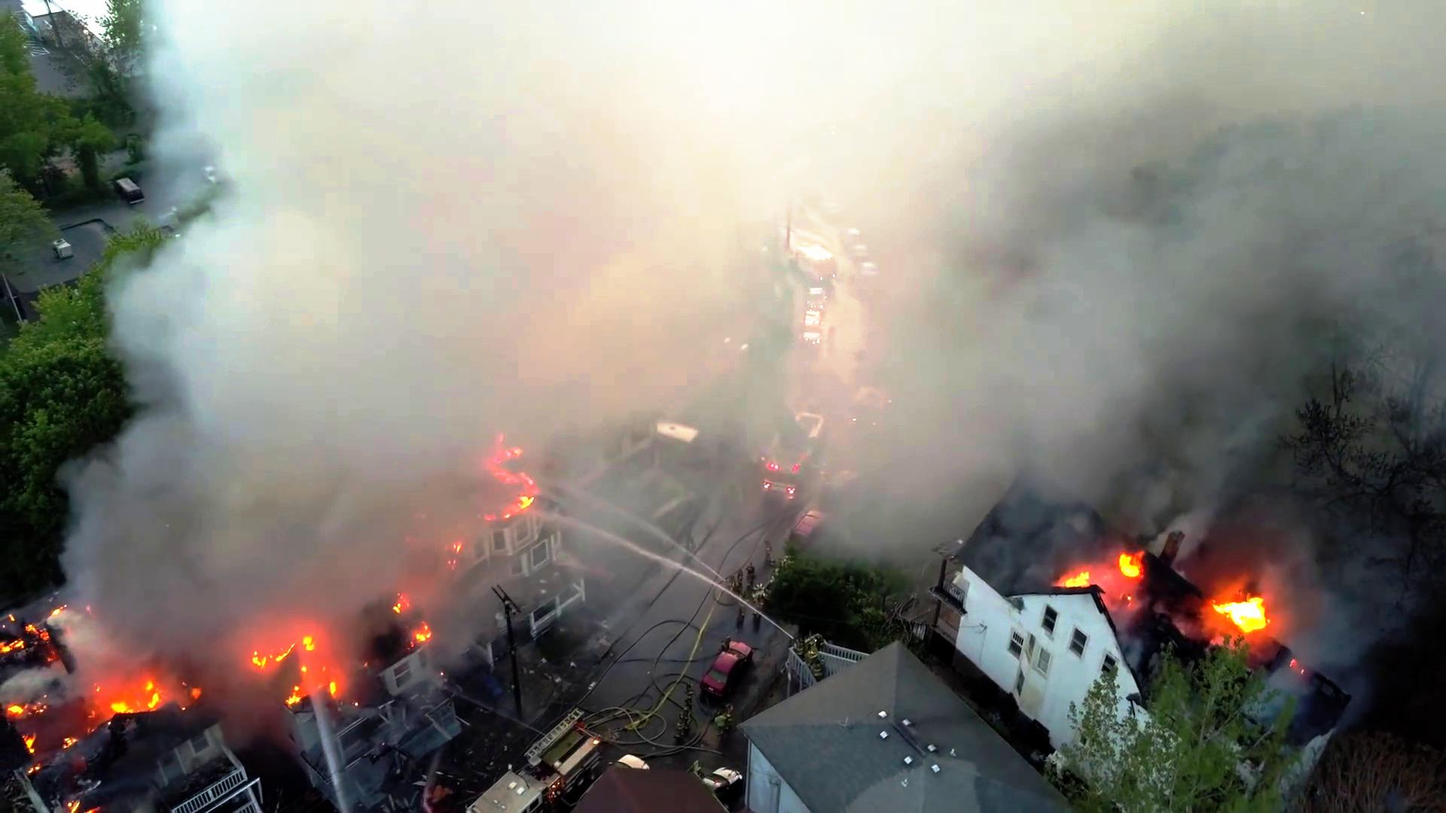fire: (275, 635, 345, 705), (99, 665, 162, 721), (1211, 589, 1275, 643)
smoke: (1079, 354, 1216, 518)
